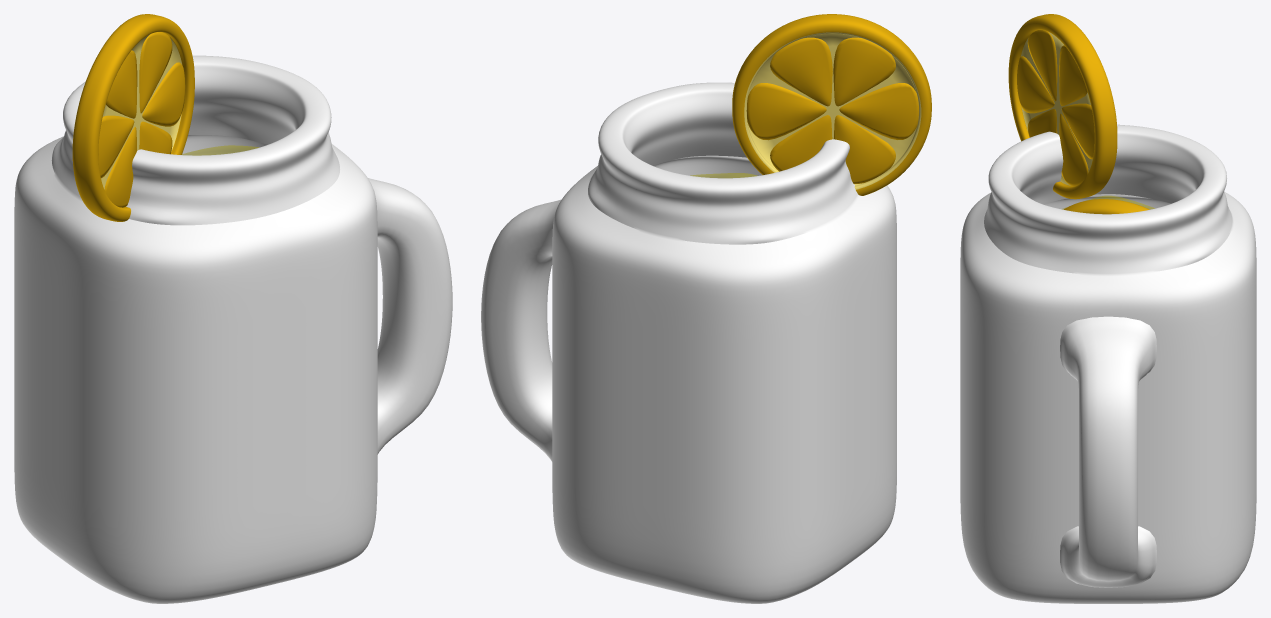
The model's file is drink5.glb.
3 views of the same model, side by side, from view 1: azimuth 30°, elevation 25°; view 2: azimuth 150°, elevation 25°; view 3: azimuth 270°, elevation 25° (orthographic). The views are drawn at different scales.
Visible parts, largest first — view 1: Cube.080, Cube.079, Lemon.017, Sphere.028, Sphere.029; view 2: Cube.080, Cube.079, Lemon.017, Sphere.030, Sphere.031; view 3: Cube.080, Cube.079, Lemon.017, Sphere.028, Sphere.029, Lemon.018.
Boxes of the visible parts, x1,y1,x2,y2 form: Cube.080: (14,55,377,603); Cube.079: (368,178,452,454); Lemon.017: (72,14,194,221); Sphere.028: (104,32,172,207); Sphere.029: (98,62,185,178); Cube.080: (552,82,896,603); Cube.079: (481,199,561,461); Lemon.017: (732,14,931,195); Sphere.030: (770,37,895,183); Sphere.031: (746,83,918,140); Cube.080: (960,124,1256,603); Cube.079: (1060,316,1156,587); Lemon.017: (1008,14,1117,199); Sphere.028: (1027,30,1088,186); Sphere.029: (1017,56,1094,159); Lemon.018: (1064,199,1149,214).
Bounding box in the file's own units: 6.36 × 8.05 × 4.38.
